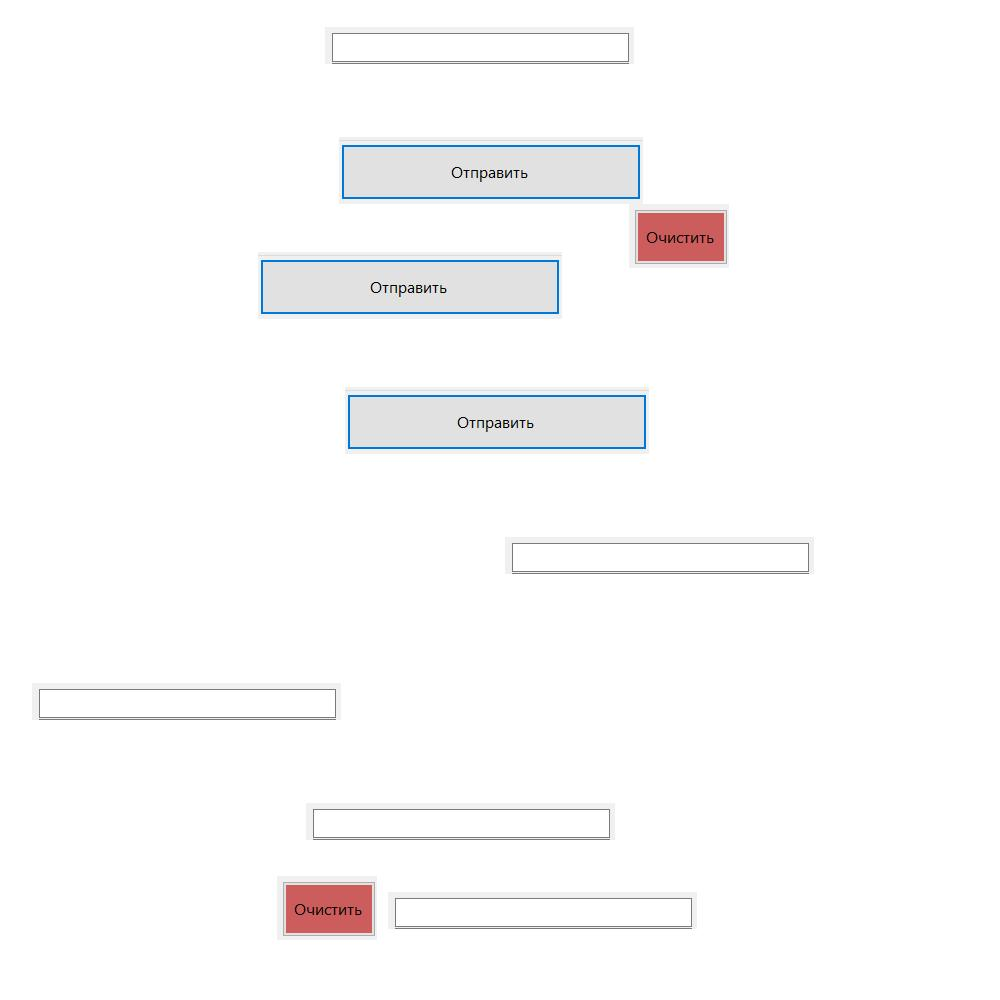Button: (345, 387, 649, 454), (258, 252, 562, 319), (339, 137, 643, 204), (629, 204, 729, 268), (277, 876, 377, 940)
EditText-: (306, 803, 615, 840), (325, 27, 634, 64), (388, 892, 697, 929), (32, 683, 341, 720), (505, 537, 814, 574)
